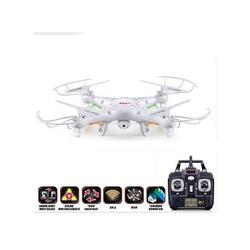drone: (35, 76, 213, 143)
